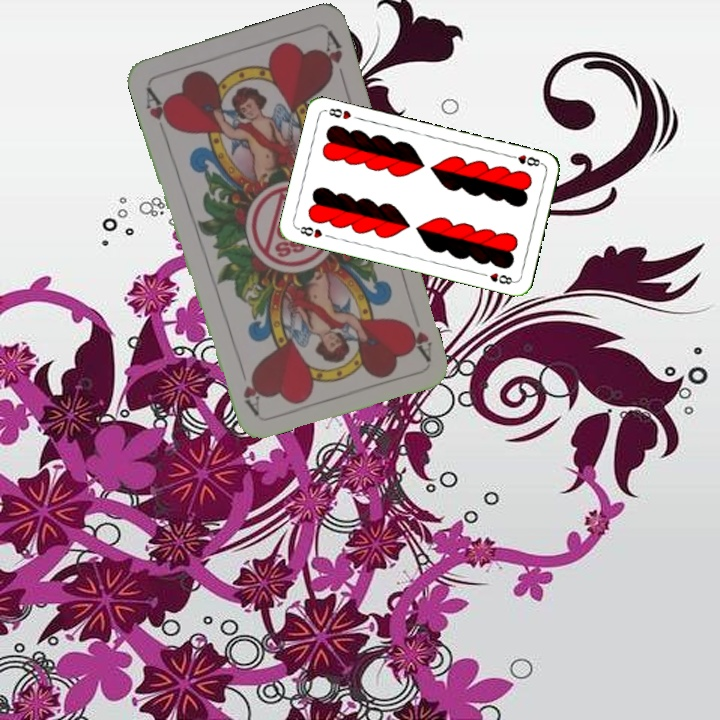H8: (505, 151, 545, 169), (293, 222, 325, 241)
HA: (141, 83, 177, 139), (399, 317, 434, 363)
